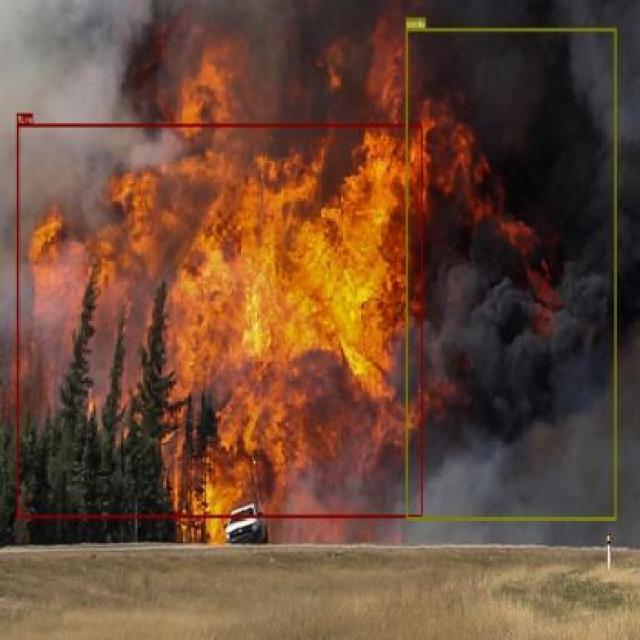Fire: (16, 123, 422, 517)
Smoke: (406, 28, 616, 520), (2, 8, 150, 108)
